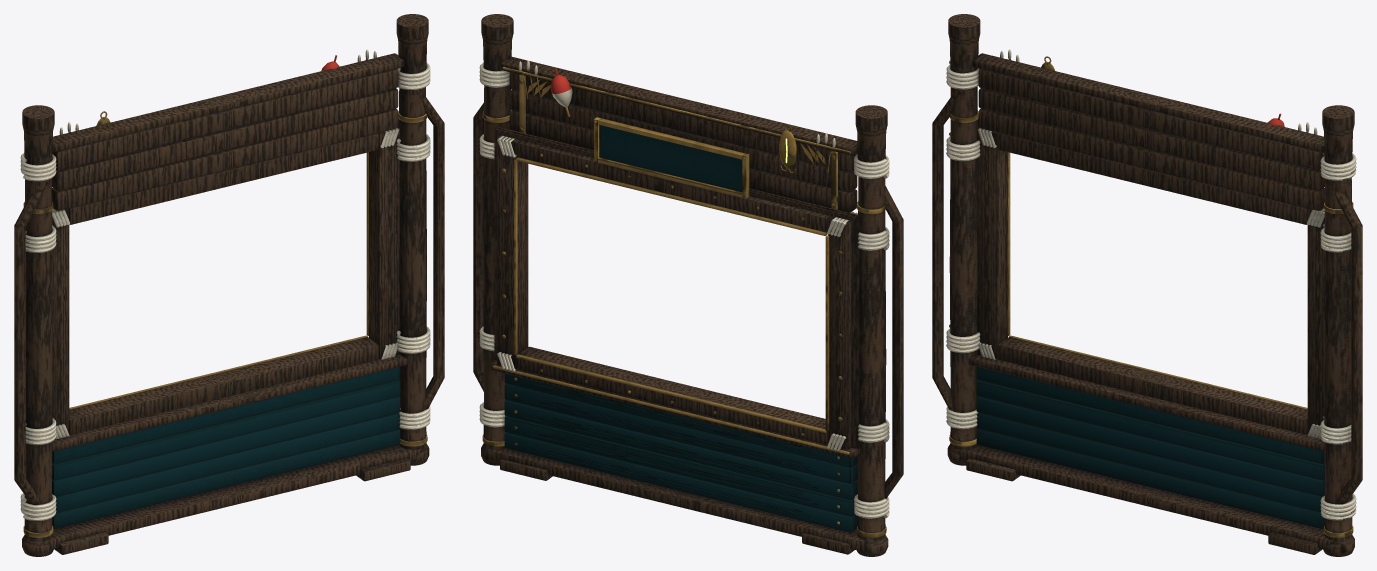
The picture shows the model from 3 angles, left to right: view 1: azimuth 30°, elevation 25°; view 2: azimuth 150°, elevation 25°; view 3: azimuth 330°, elevation 25°; orthographic projection.
Parts seen in each view (by area): view 1: Wet_dock_timber, Deep_teal_paint_and_blank_display, Ivory_rope_and_float_enamel, Weathered_brass; view 2: Wet_dock_timber, Deep_teal_paint_and_blank_display, Weathered_brass, Ivory_rope_and_float_enamel; view 3: Wet_dock_timber, Deep_teal_paint_and_blank_display, Ivory_rope_and_float_enamel, Weathered_brass.
Part boxes in pixels (x1=…): Wet_dock_timber: x1=14, y1=14, x2=444, y2=556; Deep_teal_paint_and_blank_display: x1=52, y1=366, x2=400, y2=528; Ivory_rope_and_float_enamel: x1=20, y1=49, x2=430, y2=520; Weathered_brass: x1=23, y1=59, x2=427, y2=537; Wet_dock_timber: x1=473, y1=14, x2=903, y2=556; Deep_teal_paint_and_blank_display: x1=504, y1=125, x2=857, y2=532; Weathered_brass: x1=482, y1=67, x2=886, y2=537; Ivory_rope_and_float_enamel: x1=479, y1=60, x2=889, y2=518; Wet_dock_timber: x1=932, y1=14, x2=1362, y2=556; Deep_teal_paint_and_blank_display: x1=976, y1=366, x2=1324, y2=528; Ivory_rope_and_float_enamel: x1=946, y1=49, x2=1356, y2=520; Weathered_brass: x1=949, y1=56, x2=1353, y2=537.
Bounding box in the file's own units: 9.53 × 9.3 × 1.
Materials: 6 (5 with a texture image).
